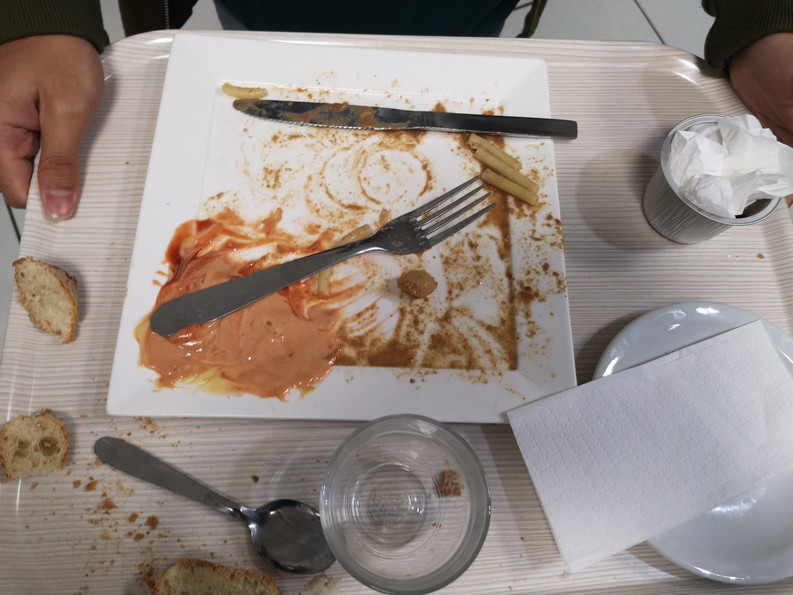cup: (322, 406, 502, 593)
cutlery: (157, 181, 493, 321), (89, 433, 330, 569), (230, 80, 589, 142)
orga: (169, 314, 369, 389), (9, 257, 89, 354), (464, 130, 554, 215), (1, 401, 83, 485), (146, 557, 280, 595)
trash: (507, 312, 793, 574), (636, 99, 793, 263)
